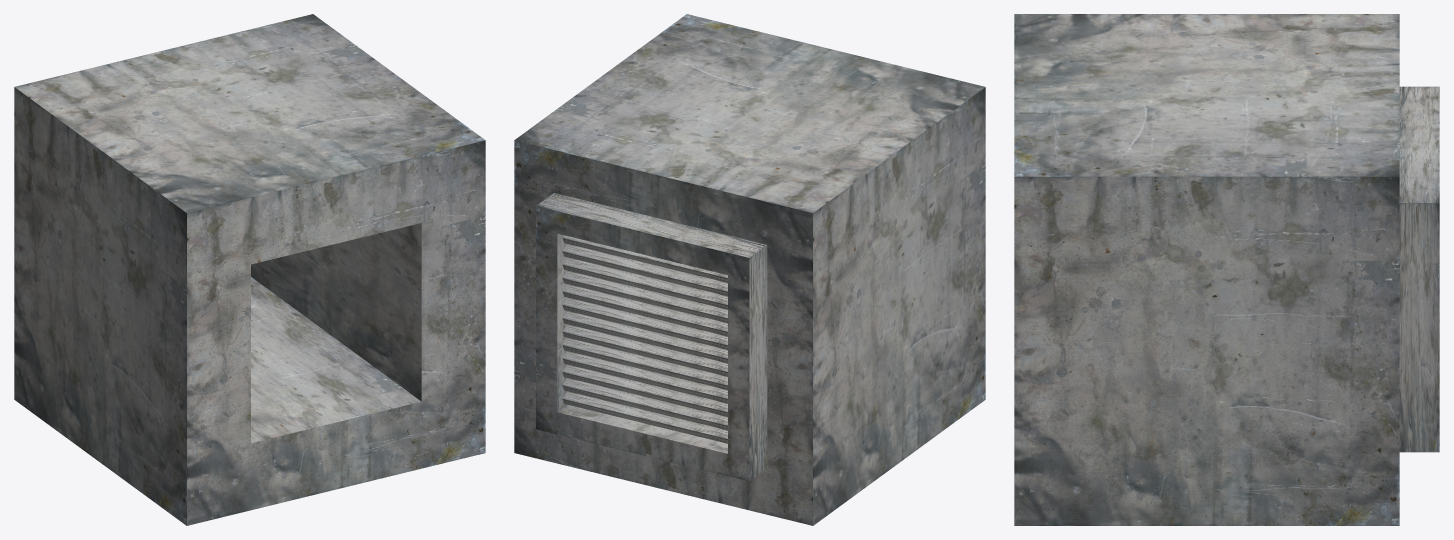
Rendered from Lueftungsschacht+Gitter_01.fbx.
The picture shows the model from 3 angles, left to right: view 1: azimuth 30°, elevation 25°; view 2: azimuth 150°, elevation 25°; view 3: azimuth 270°, elevation 25°; orthographic projection. The views are drawn at different scales.
Parts seen in each view (by area): view 1: pCube20; view 2: pCube20, pCube17, pasted__pasted__pCube19, pasted__pasted__pCube20, pasted__pasted__pCube21, pasted__pasted__pCube22, pasted__pasted__pCube24, pasted__pasted__pCube25, pasted__pasted__pCube26, pasted__pasted__pCube16, pasted__pasted__pCube27, pasted__pasted__pCube17 (+3 smaller); view 3: pCube20, pCube17.
Part boxes in pixels (<box>): pCube20: <box>14,14,485,525</box>; pCube20: <box>514,14,985,525</box>; pCube17: <box>536,193,767,481</box>; pasted__pasted__pCube19: <box>562,270,727,322</box>; pasted__pasted__pCube20: <box>562,297,727,349</box>; pasted__pasted__pCube21: <box>562,310,727,363</box>; pasted__pasted__pCube22: <box>562,324,727,376</box>; pasted__pasted__pCube24: <box>562,337,727,389</box>; pasted__pasted__pCube25: <box>562,364,727,416</box>; pasted__pasted__pCube26: <box>562,377,727,430</box>; pasted__pasted__pCube16: <box>562,391,727,443</box>; pasted__pasted__pCube27: <box>562,243,727,296</box>; pasted__pasted__pCube17: <box>562,257,727,309</box>; pCube20: <box>1014,14,1399,525</box>; pCube17: <box>1399,86,1439,452</box>.
Size of the model in its own units: 17.5 by 17.5 by 19.32.
1 material, 1 textured.
